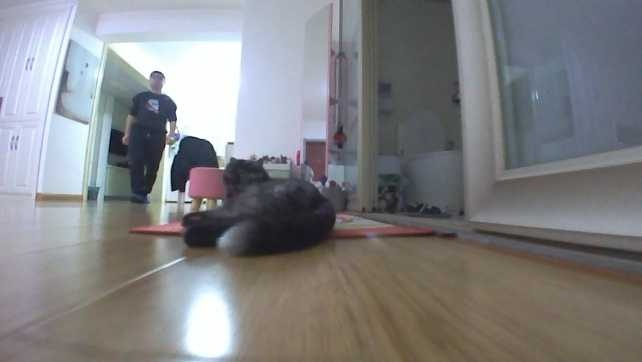cat: (181, 153, 338, 260)
toilet: (393, 105, 464, 216)
